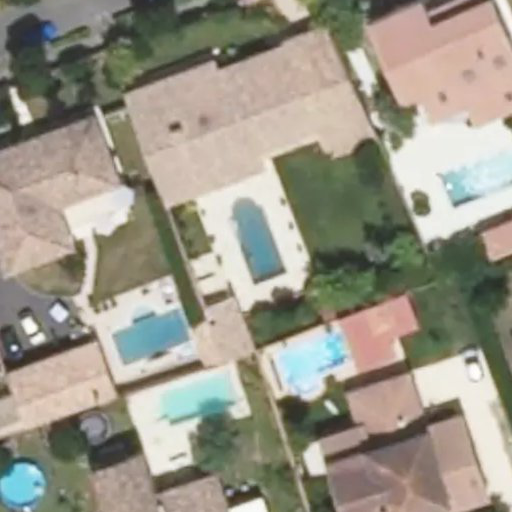pool: (223, 204, 284, 274)
